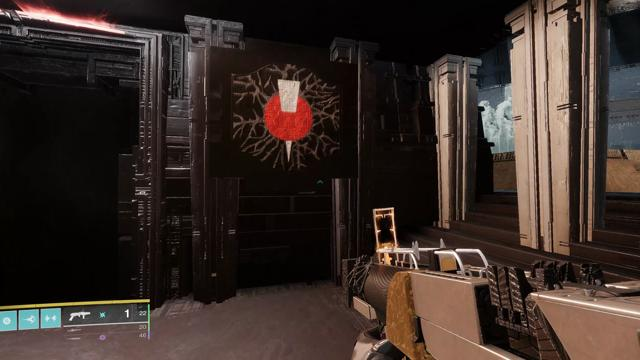kill: (231, 62, 340, 172)
